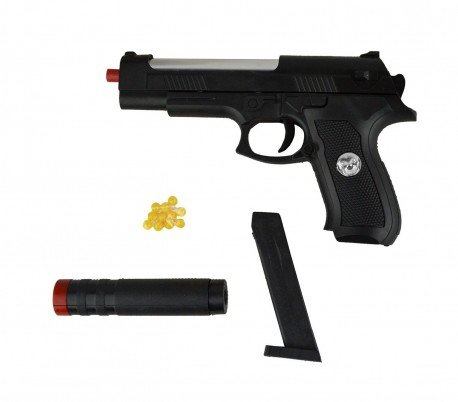Arma Falsa: (106, 47, 429, 242)
